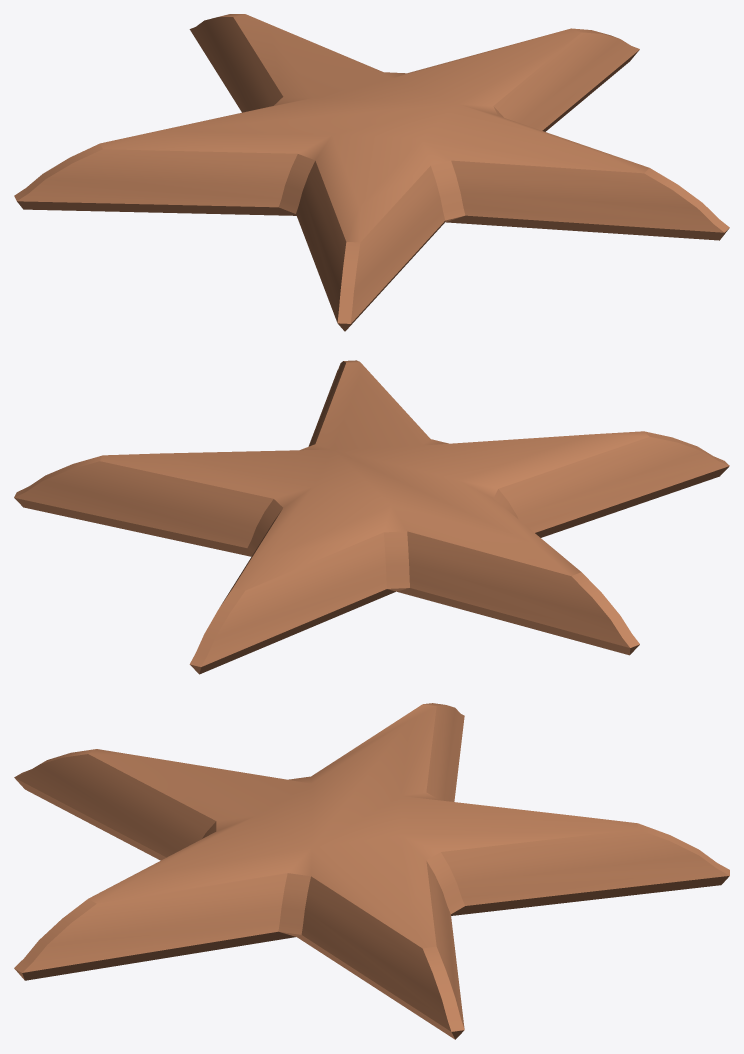
File: starfish.fbx
3 renders of one model, top to bottom at view 1: azimuth 30°, elevation 25°; view 2: azimuth 150°, elevation 25°; view 3: azimuth 270°, elevation 25°, orthographic. The views are drawn at different scales.
Parts seen in each view (by area): view 1: Circle; view 2: Circle; view 3: Circle.
Part boxes in pixels (box(x1,y1,x2,y2)): Circle: box(14, 14, 729, 331); Circle: box(14, 360, 729, 674); Circle: box(14, 703, 729, 1039).
Size of the model in its own units: 38.55 by 3.92 by 36.66.
